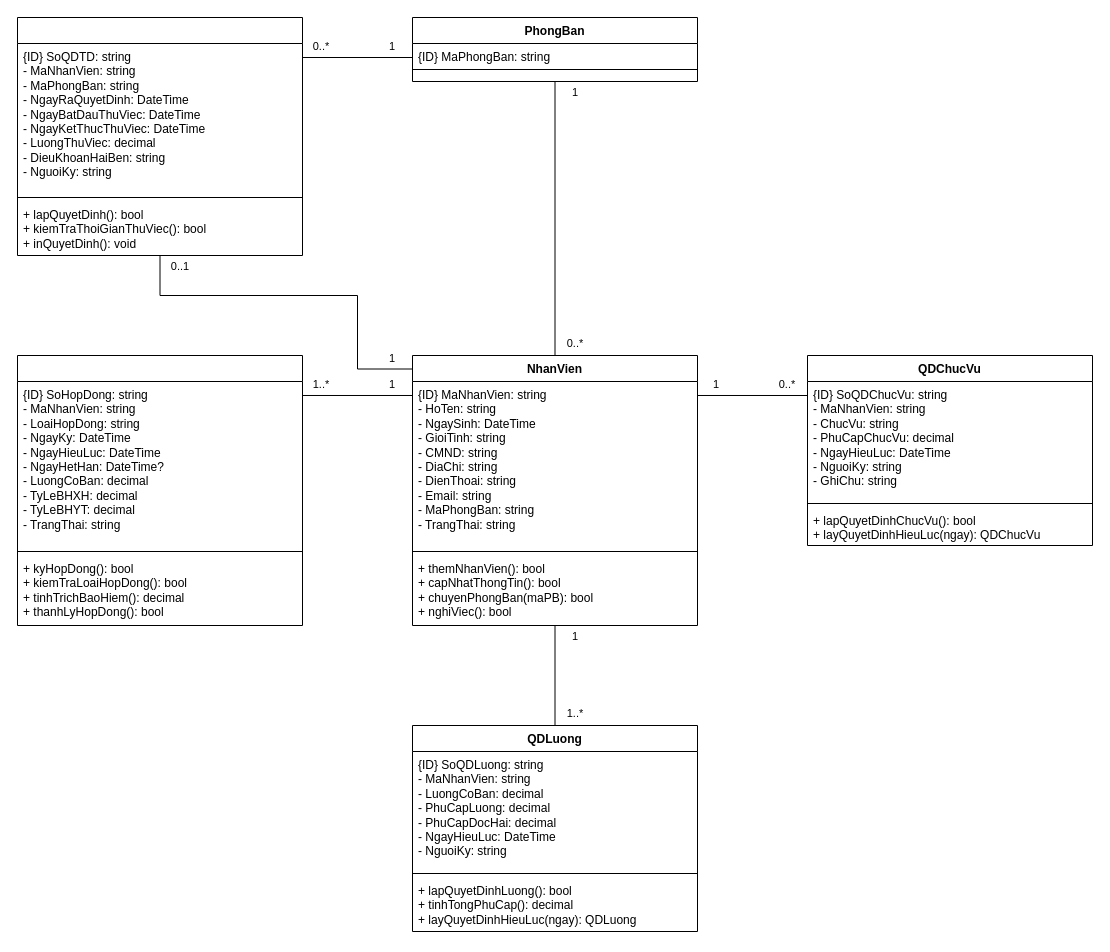
Some shapes in this 1110 by 952 pixel diagram are drawn without their labels. Here are the shapes that lost their labels. From the top down, the box of each, then its label:
(16, 16, 302, 256): QDTuyenDung
(16, 354, 302, 626): HopDongLaoDong
